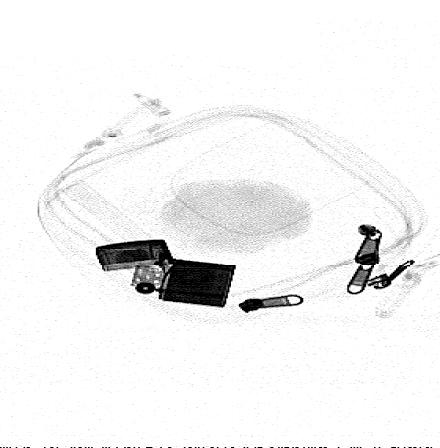Lighter: (95, 238, 238, 309)
